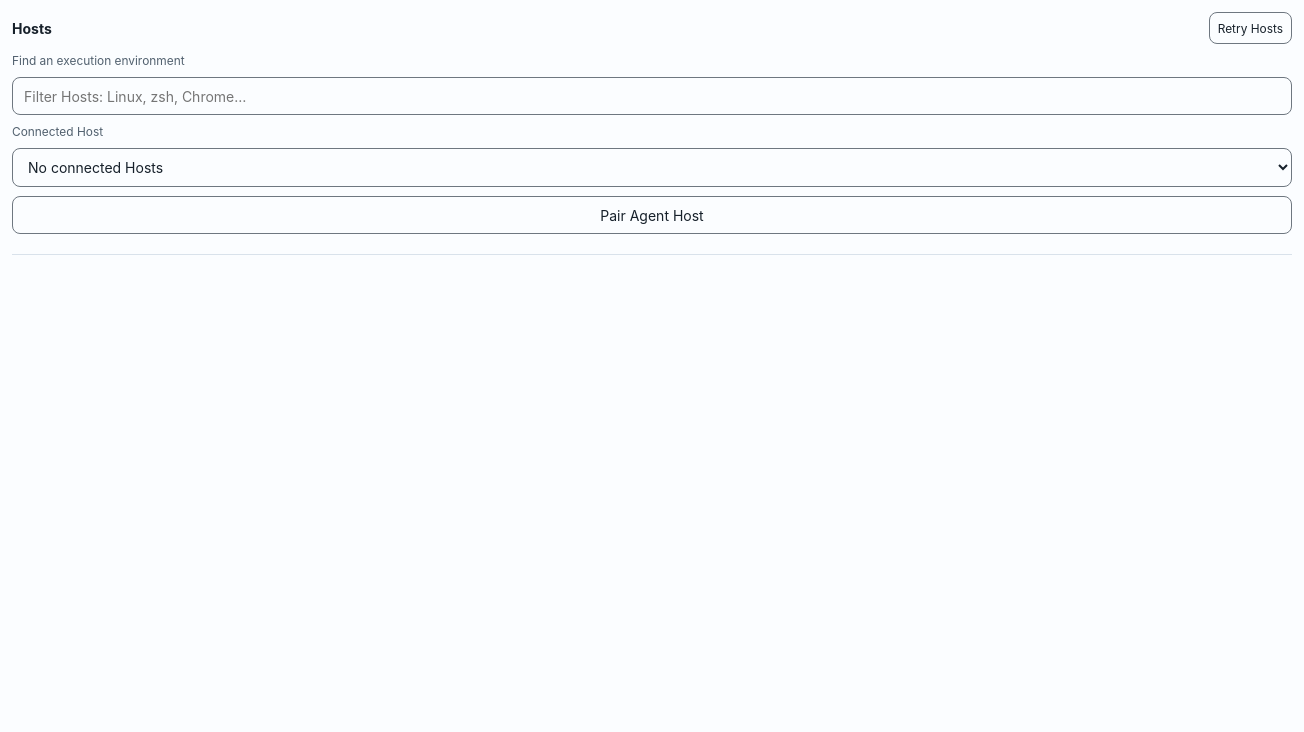
treats an expired unused key as obsolete and offers no revocation
The image size is (1304, 732).
Click the button "Pair Agent Host". click: {"x": 652, "y": 215}
box: [12,196,1292,234]
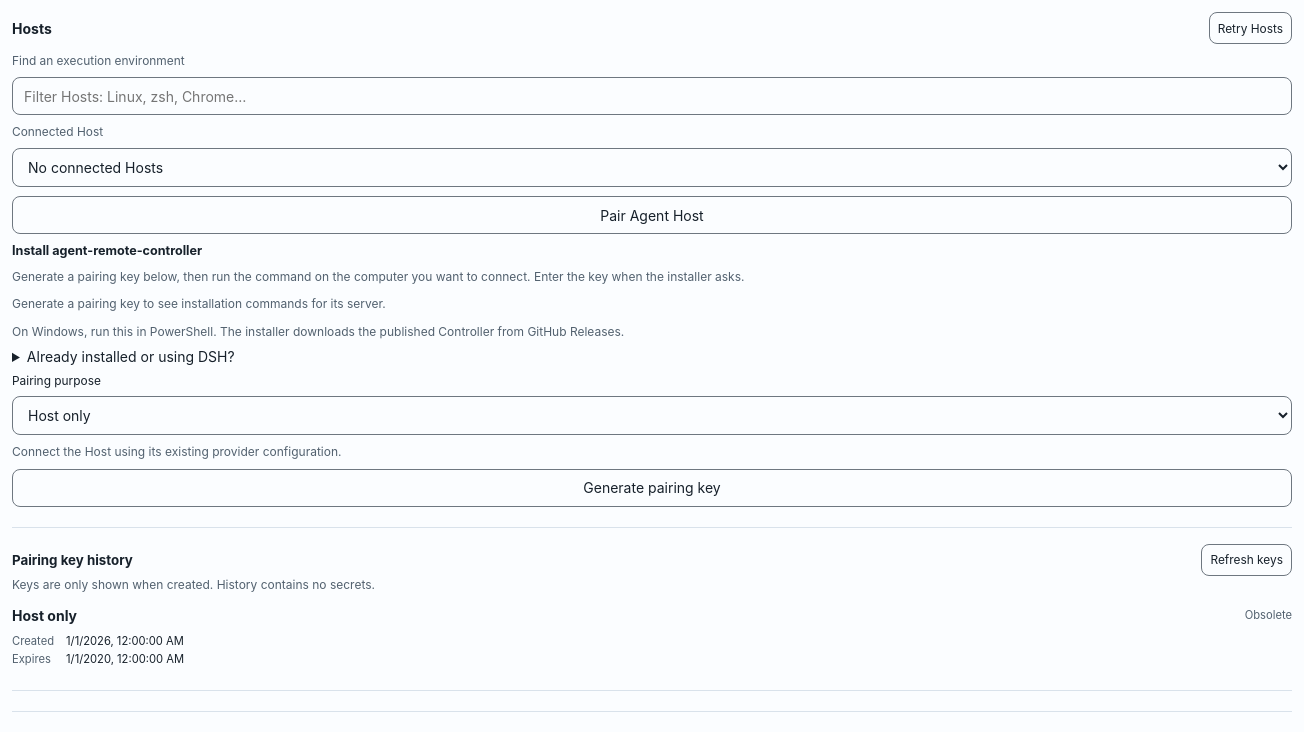
Expected: the text "Obsolete" is shown, [1245,608,1292,622]
